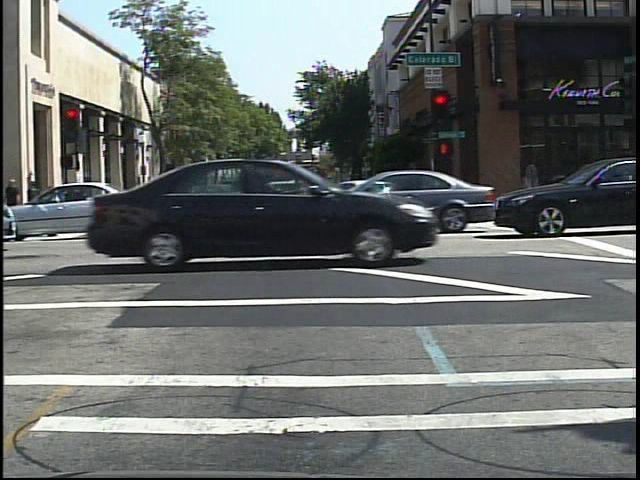person: (138, 181, 155, 216), (135, 181, 150, 213)
